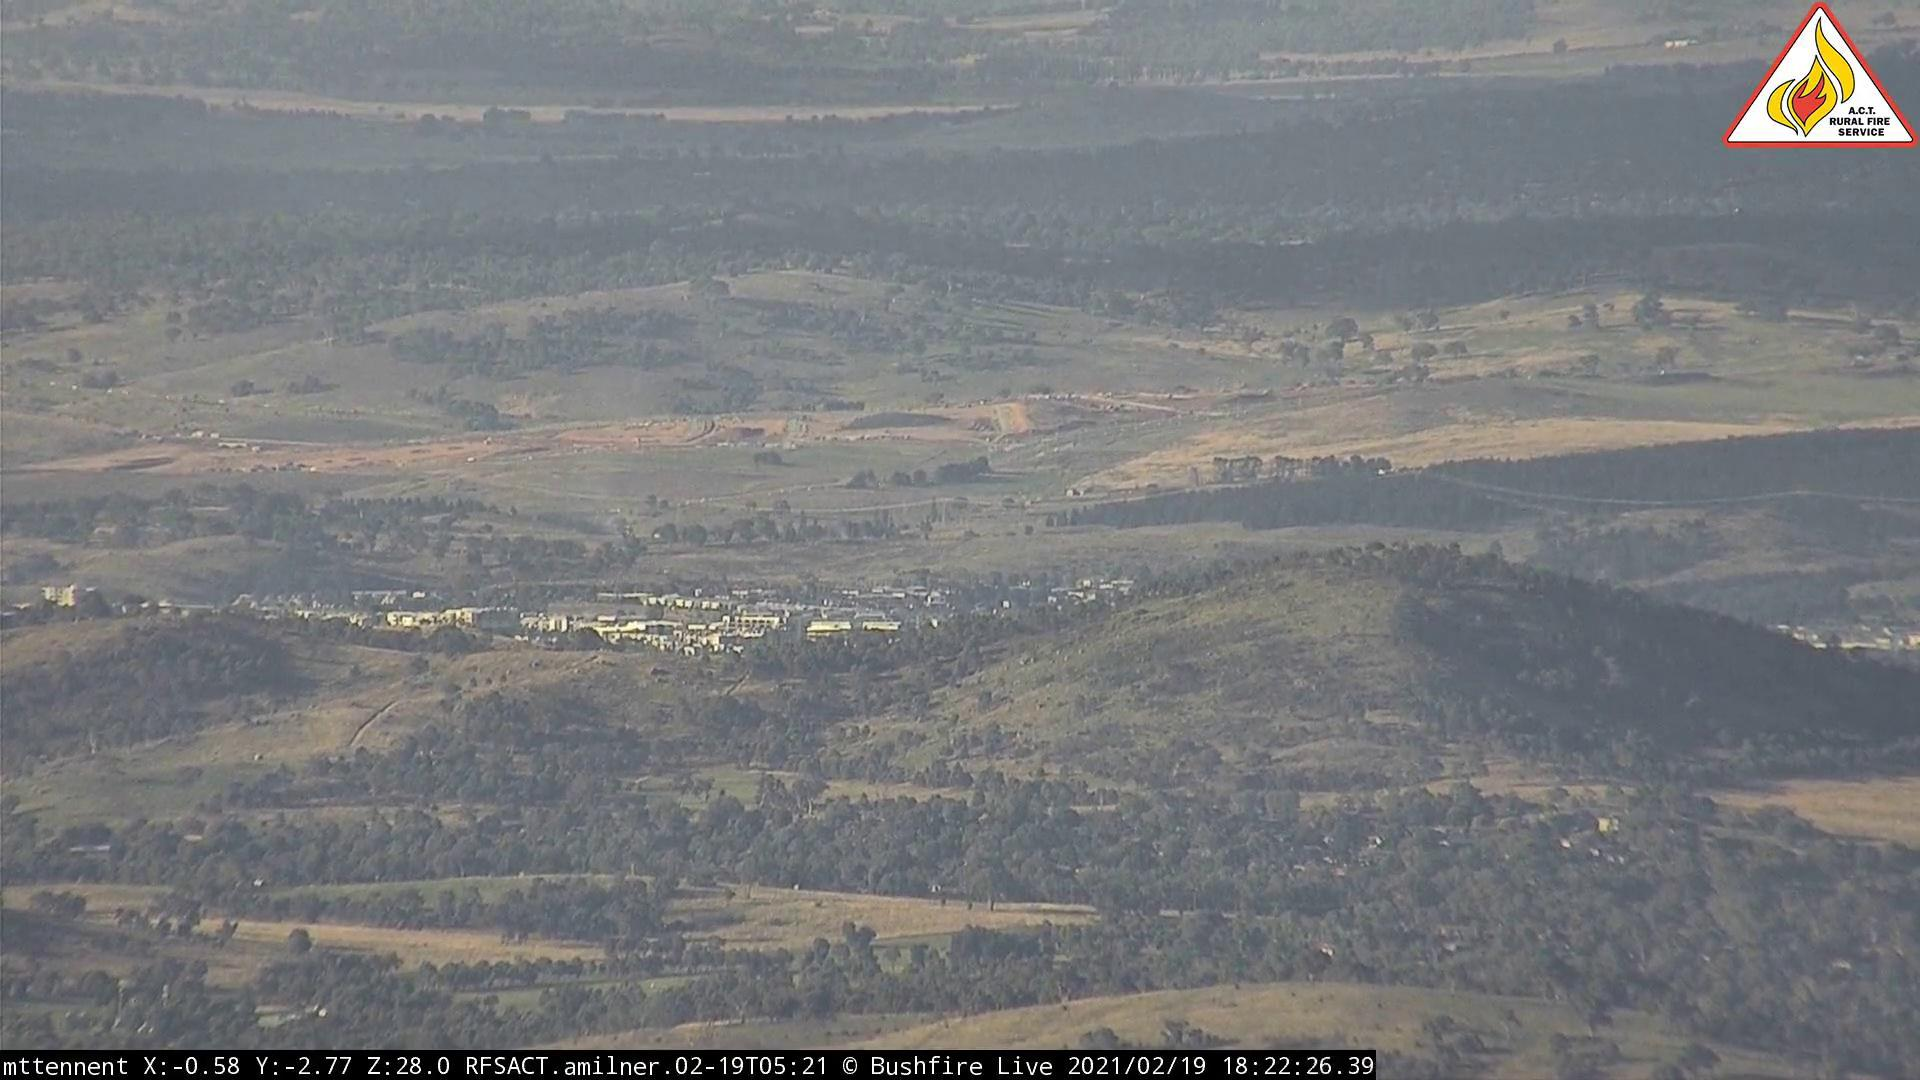Smoke: (622, 520, 667, 553)
